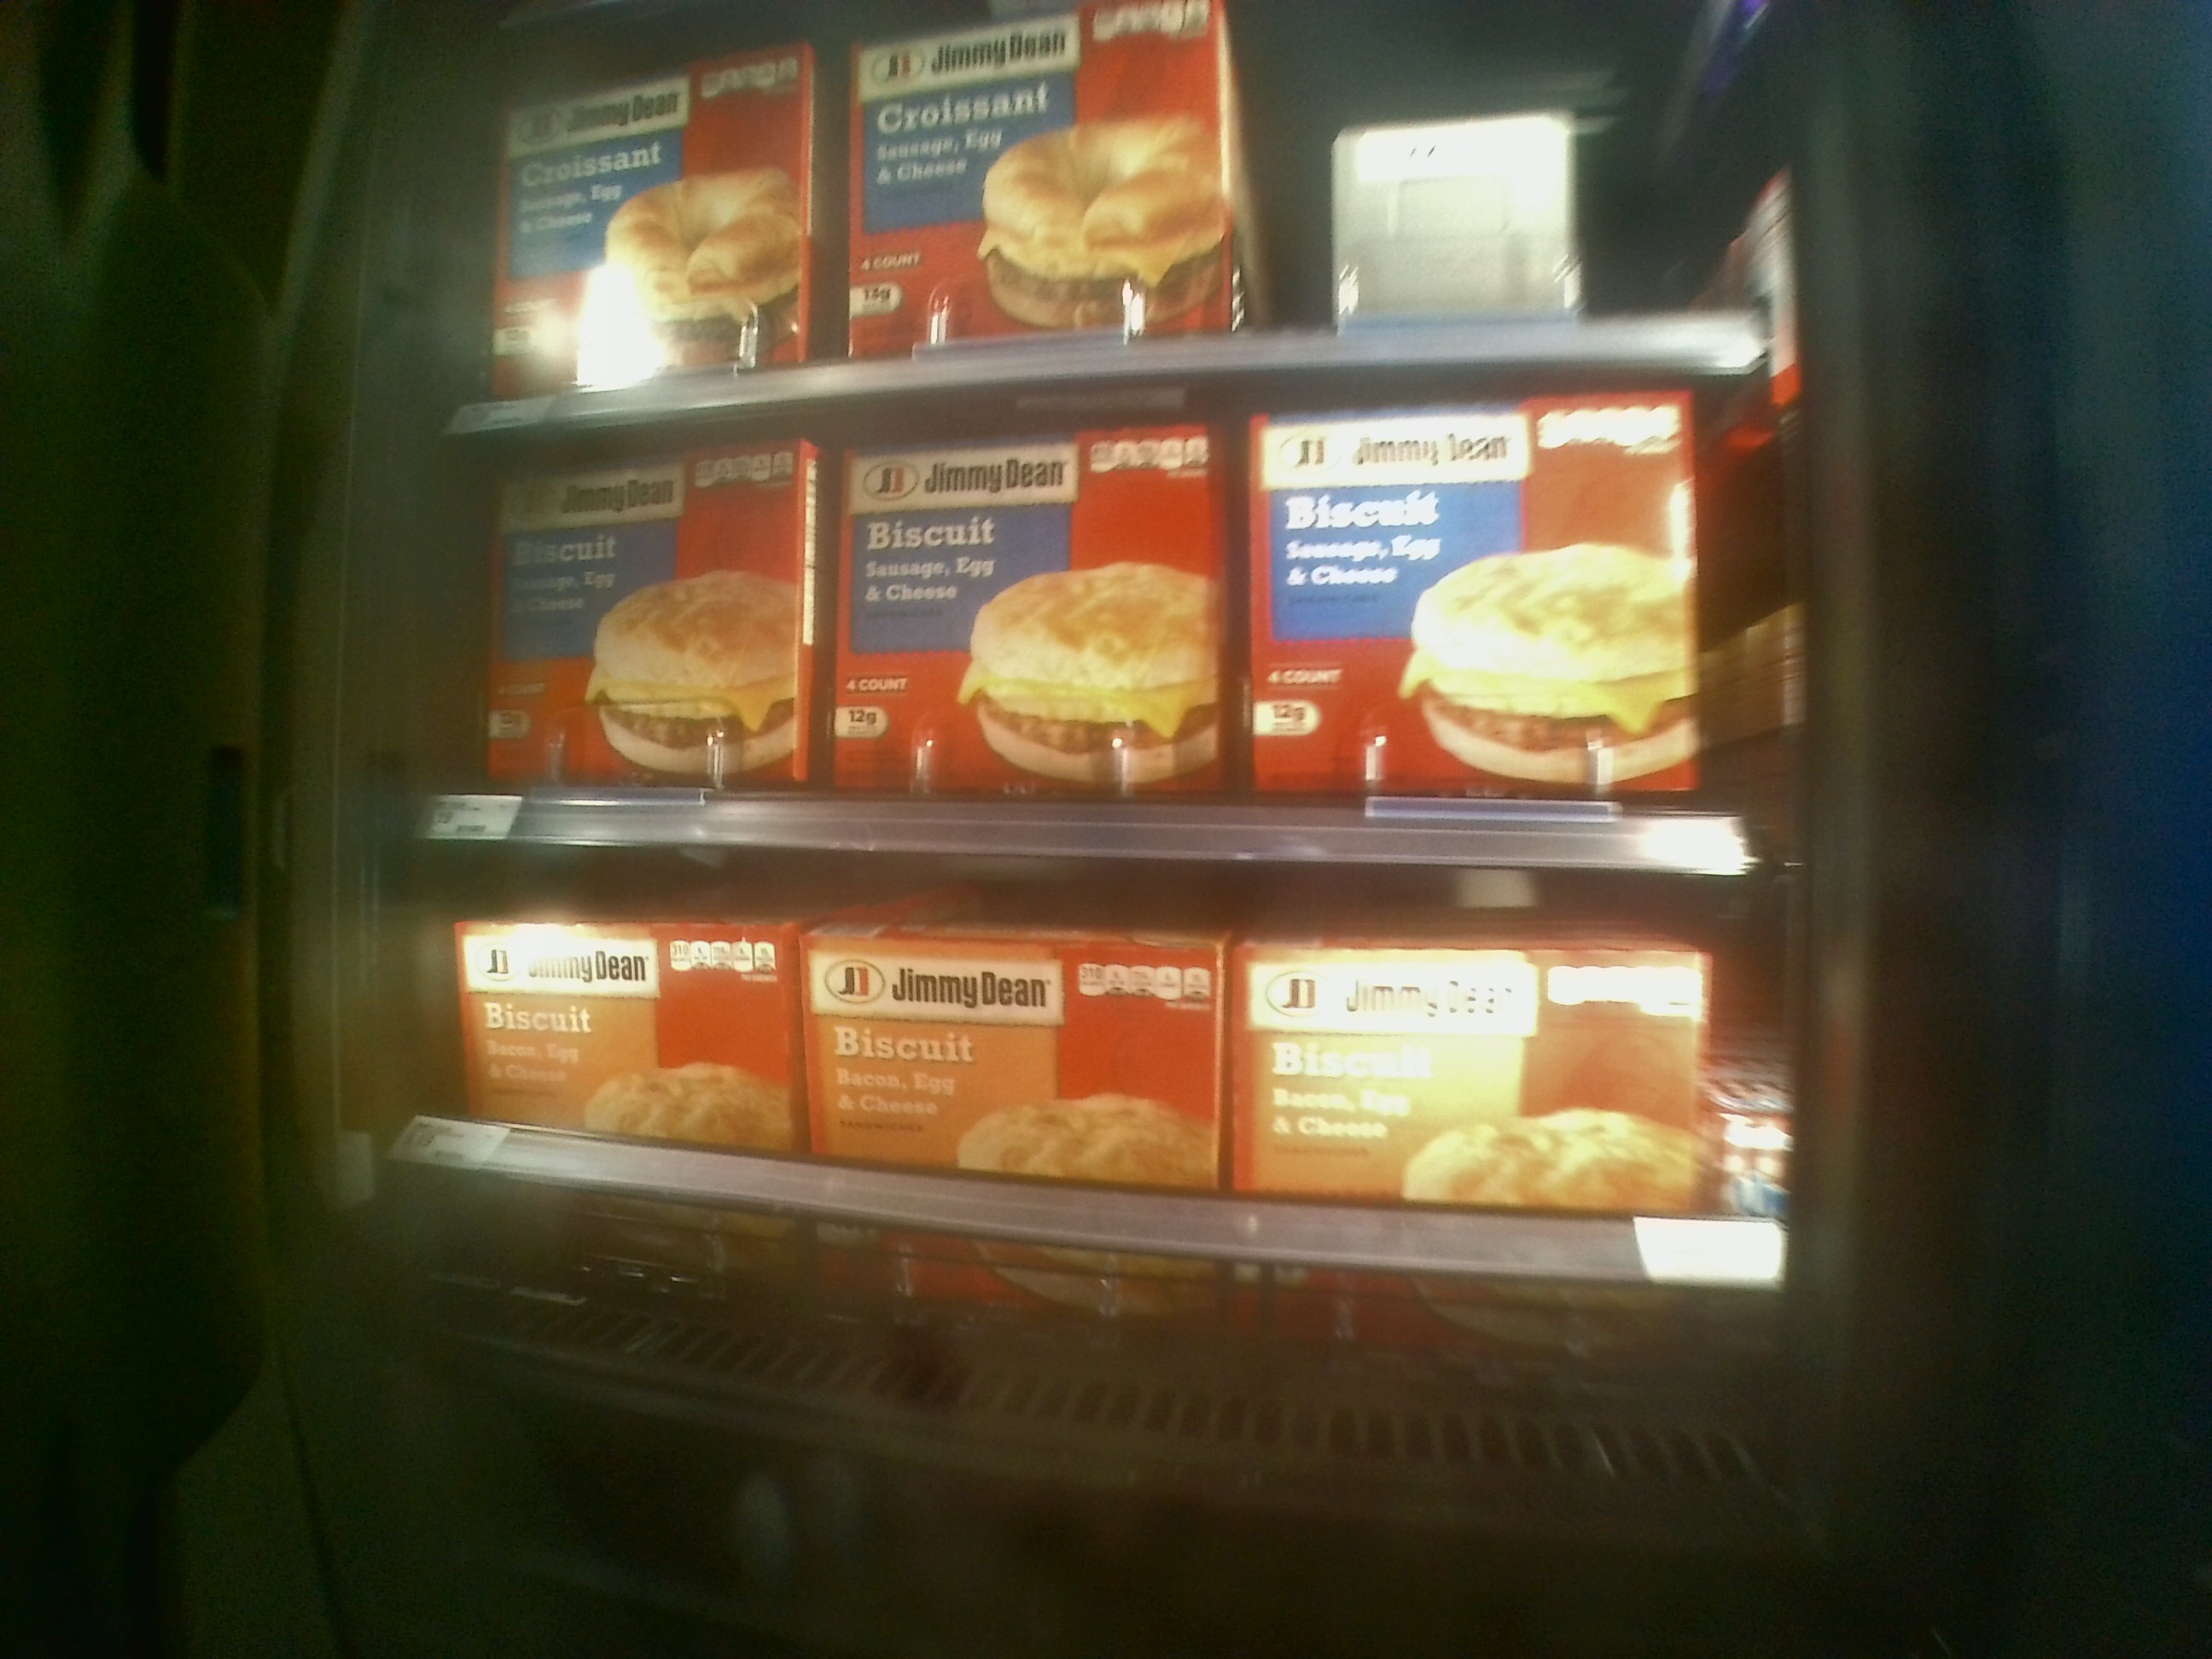shelf: (420, 852, 1789, 1394), (420, 373, 1804, 868)
